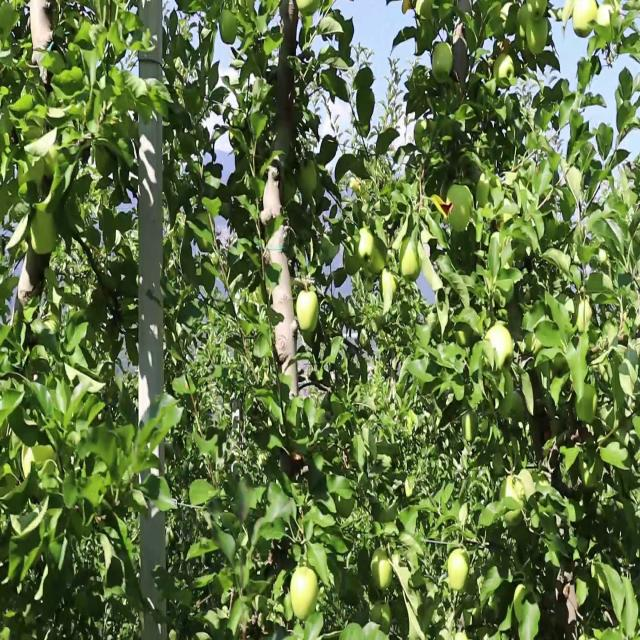apple: (445, 182, 477, 234), (289, 565, 318, 620), (28, 205, 58, 255), (484, 324, 514, 370), (500, 476, 526, 524), (296, 288, 321, 334), (397, 237, 422, 282), (447, 546, 470, 594), (572, 0, 598, 38), (431, 39, 453, 81), (371, 548, 392, 590), (526, 19, 549, 57), (356, 224, 376, 264), (21, 445, 51, 471), (493, 54, 515, 88), (297, 160, 317, 197), (219, 8, 238, 46), (594, 0, 613, 36), (370, 601, 391, 631), (526, 0, 548, 20), (518, 6, 529, 34)
